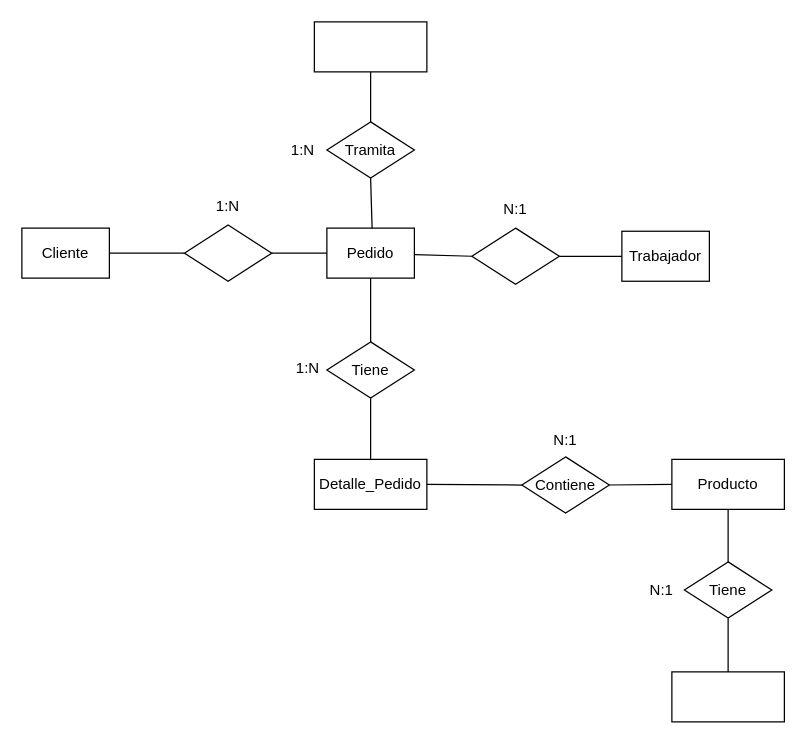
Some shapes in this 806 by 744 pixel diagram are drawn without their labels. Each missing label, with the centre of its shape:
"Categoria" belongs at point 727,696.
"Metodo_Pago" belongs at point 370,46.
"Prepara" belongs at point 515,255.
"Realiza" belongs at point 227,252.
